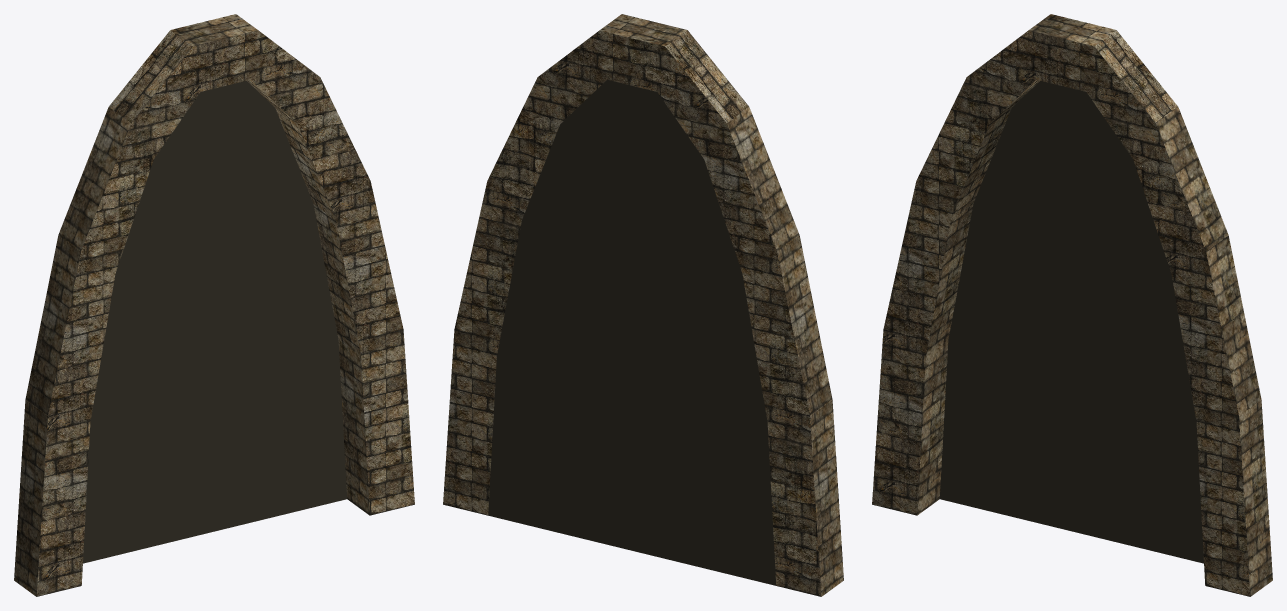
The model's file is Arch (6).fbx.
The picture shows the model from 3 angles, left to right: view 1: azimuth 30°, elevation 25°; view 2: azimuth 150°, elevation 25°; view 3: azimuth 330°, elevation 25°; orthographic projection.
Visible parts, largest first — view 1: Arch__6_.001, Arch__6_; view 2: Arch__6_.001, Arch__6_; view 3: Arch__6_.001, Arch__6_.
Boxes of the visible parts, x1,y1,x2,y2 form: Arch__6_.001: [83, 81, 347, 563]; Arch__6_: [14, 14, 414, 596]; Arch__6_.001: [488, 79, 776, 585]; Arch__6_: [443, 14, 843, 596]; Arch__6_.001: [939, 81, 1203, 563]; Arch__6_: [872, 14, 1272, 596].
Bounding box in the file's own units: 268 × 346 × 27.6.
